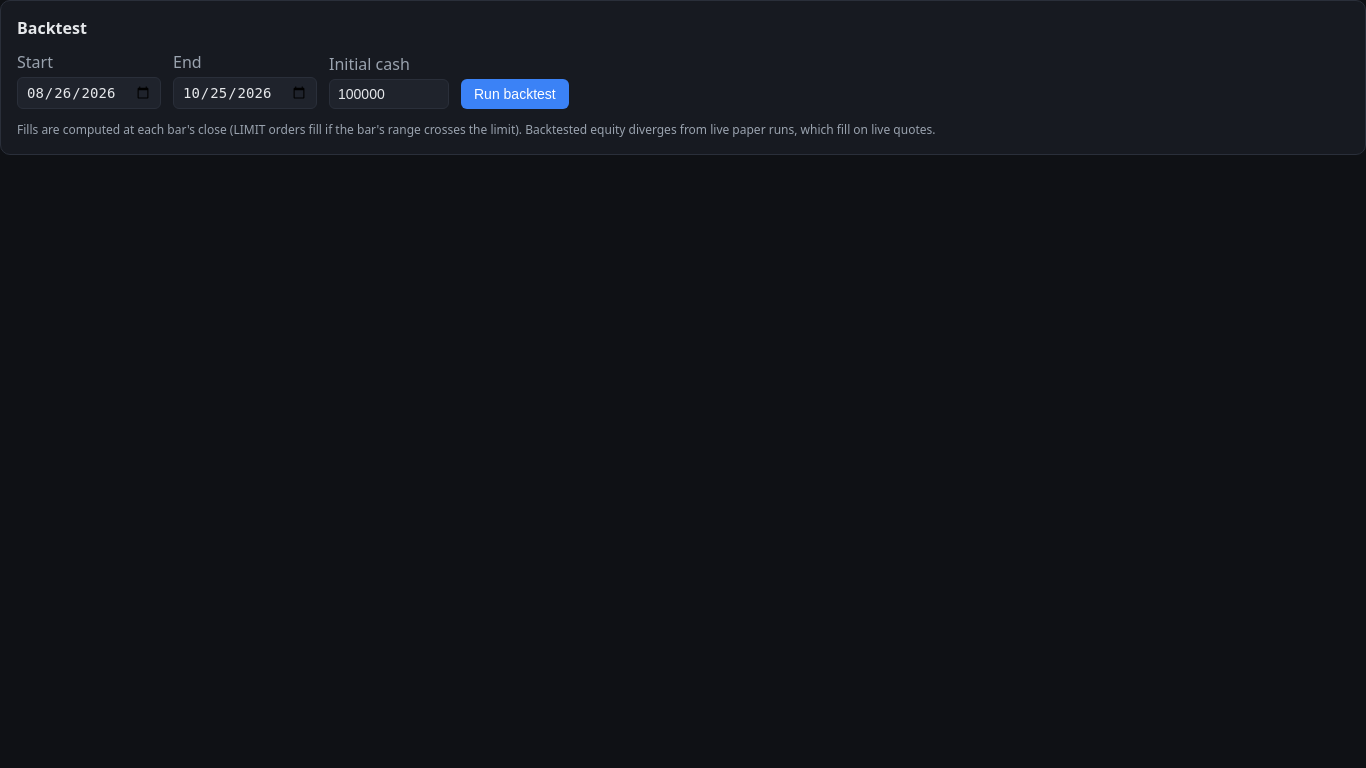
Test case: BacktestPanel v2 records › renders walk-forward windows and the in-sample scan disclaimer
Click the button "Run backtest". click: x=515, y=94
box: [461,79,569,109]
(page scrolled)
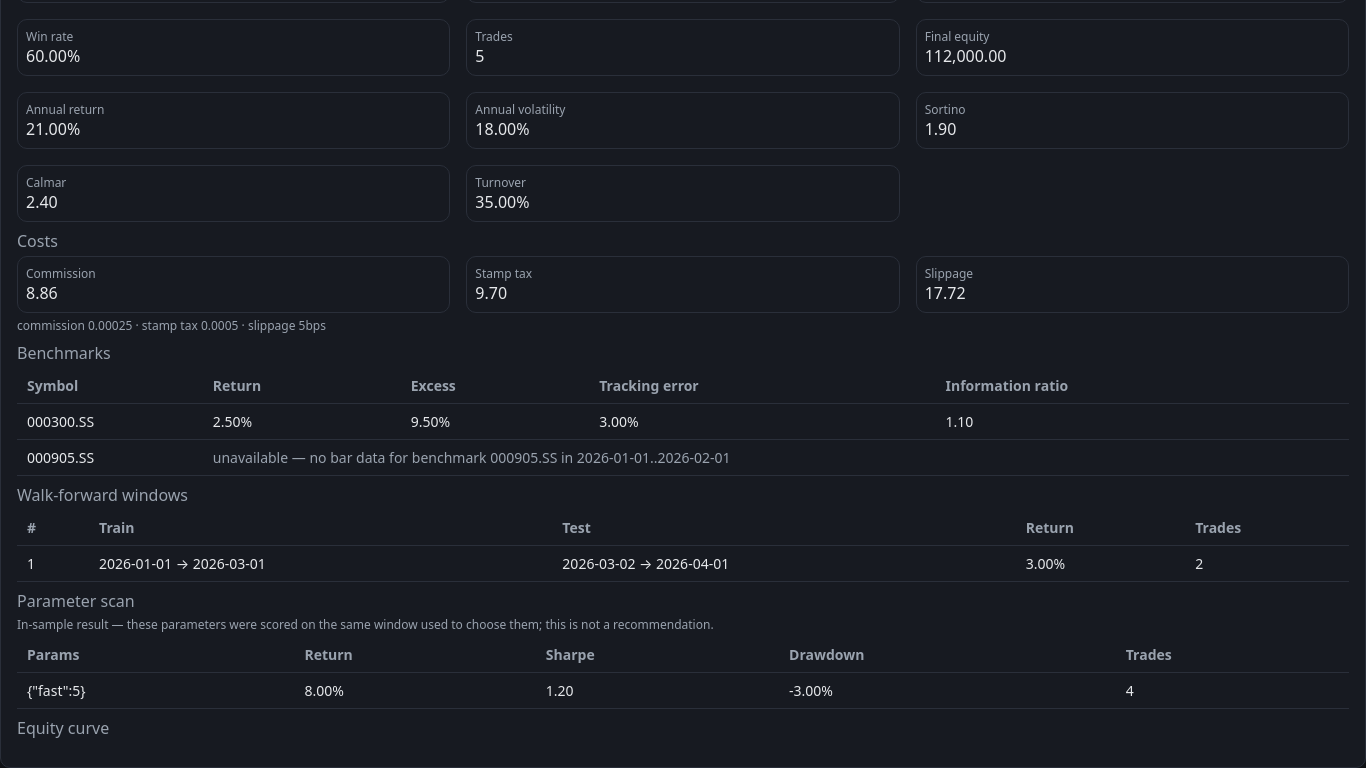
Now the text "Walk-forward windows" is shown, box [17,484,188,506]
Now the text "Parameter scan" is shown, box [17,590,135,612]
Now the text "not a recommendation" is shown, box [17,616,714,633]
